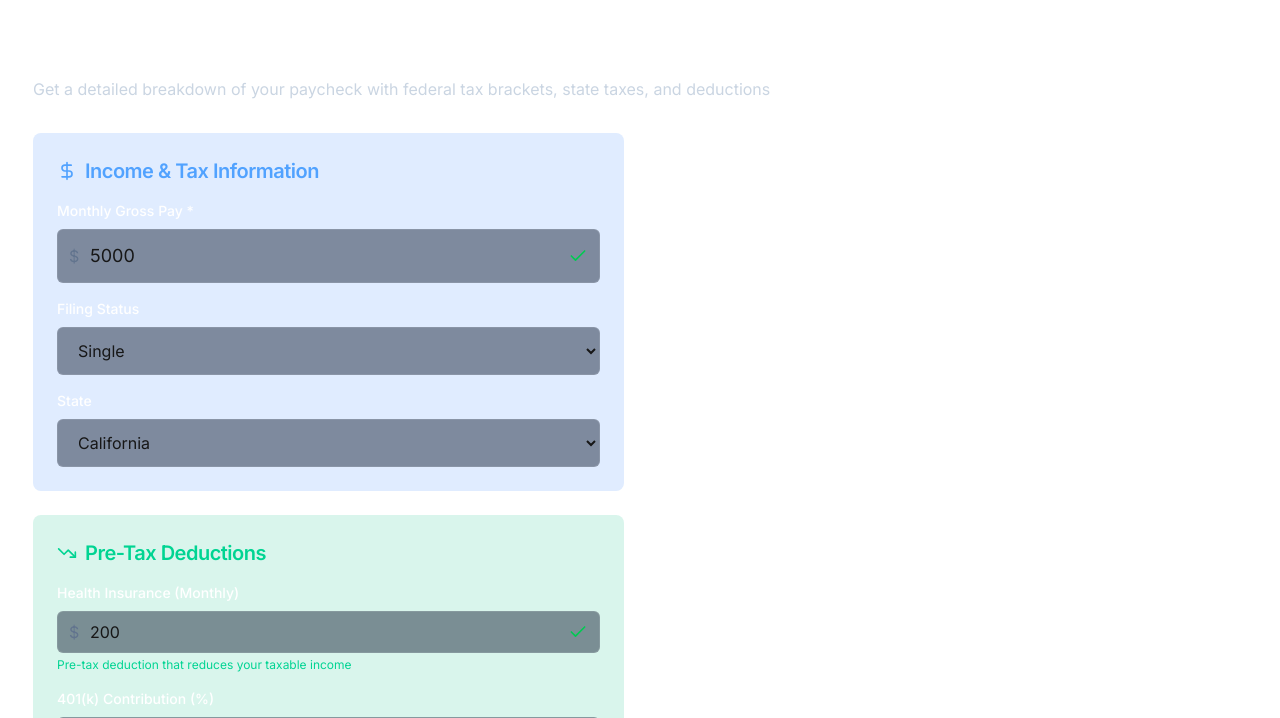
Test: PaycheckCalculator › handles no state tax correctly
// Change to Texas (no state tax)
Step 1. Select "Texas (No State Tax)" in the dropdown labelled "State" → [328, 443], box top-left (57, 419), bottom-right (600, 467)
(page scrolled)
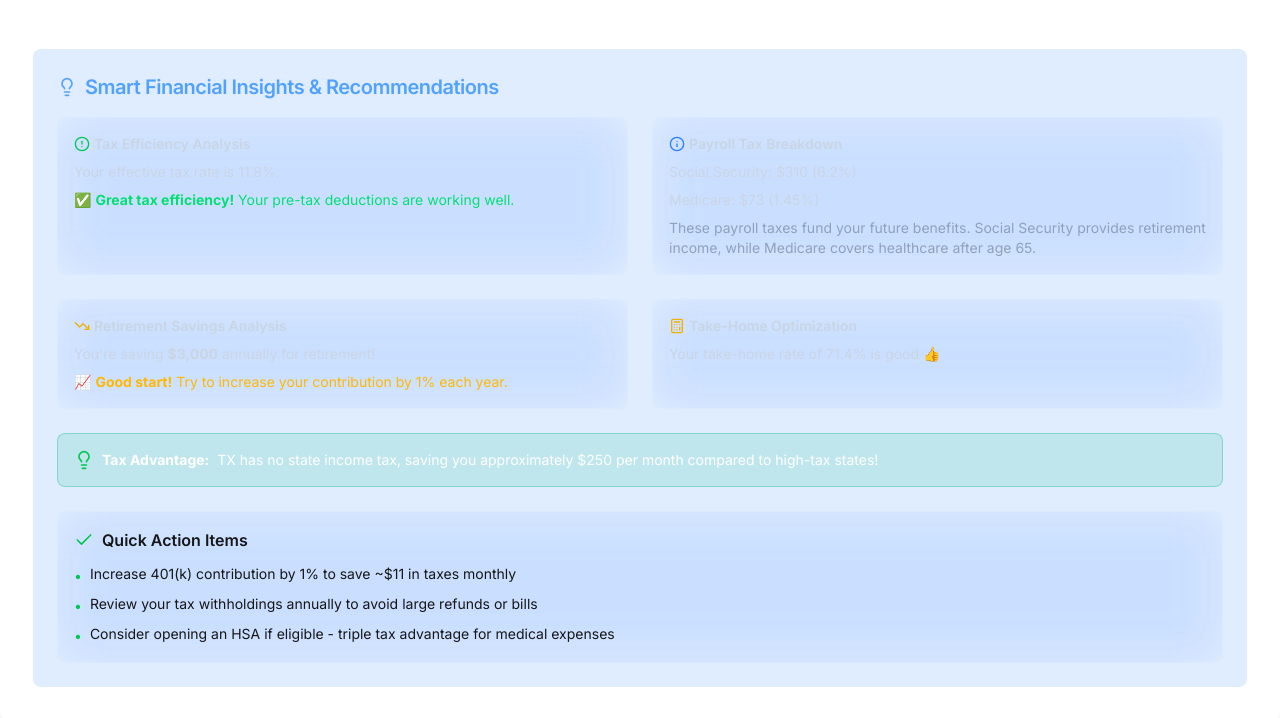
Expected: the text "has no state income tax" is shown, top-left (236, 451), bottom-right (577, 468)
